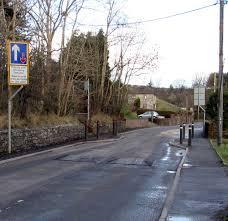Bump: (65, 151, 155, 168)
Pothole: (167, 168, 178, 176), (183, 162, 194, 168)
